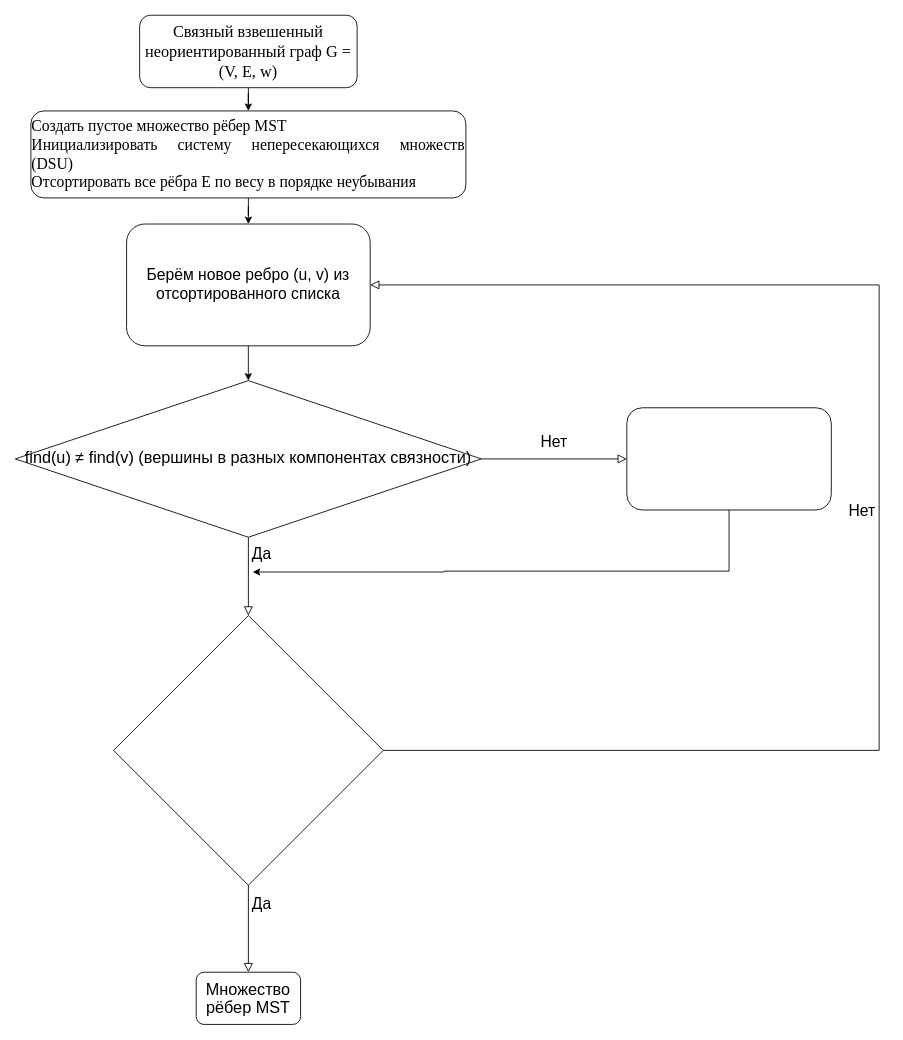
This 903x1040 diagram has some shape labels left out. Here are the shapes that lost their labels. From the top down, the box of each, then its label:
(626, 407, 831, 510): Добавить ребро (u, v) в MST Выполнить union(u, v) для объединения компонент
(113, 615, 383, 885): Если |MST| = |V| - 1
